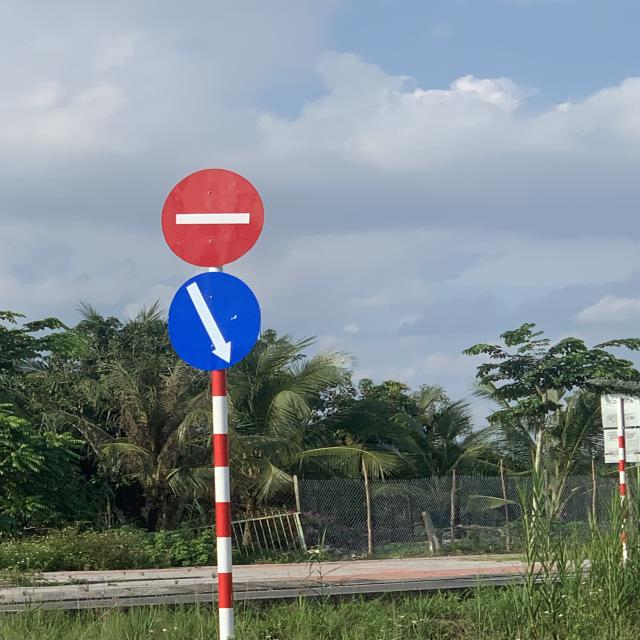Cam_Di_Nguoc_Chieu: (163, 168, 265, 269)
Chi_Huong_Di_Phai: (168, 272, 261, 371)
